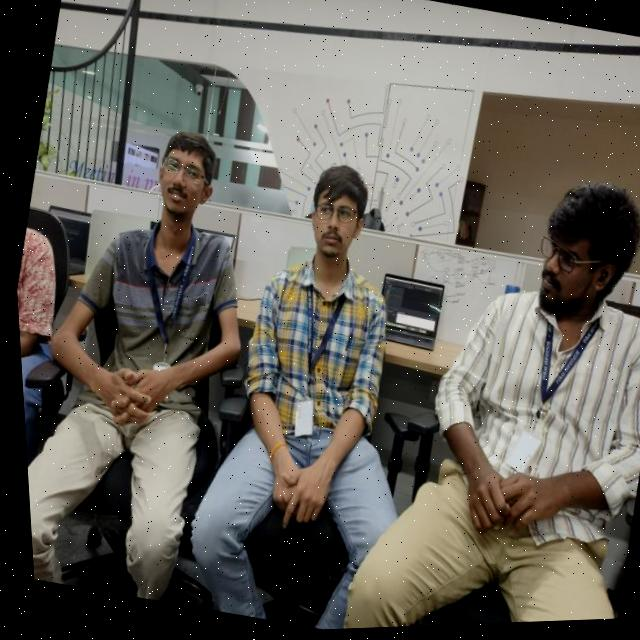id_card: (491, 304, 605, 489), (108, 214, 214, 387), (261, 266, 360, 450)
